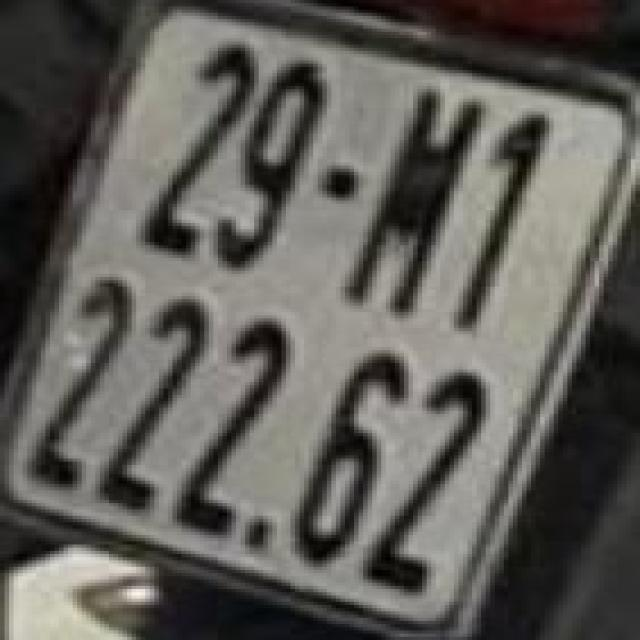1: (468, 108, 554, 328)
2: (372, 376, 481, 598), (177, 325, 281, 538), (100, 304, 200, 517), (25, 285, 125, 498)
4: (138, 48, 243, 264)
6: (293, 358, 402, 568)
9: (218, 59, 322, 269)
M: (350, 86, 472, 312)
